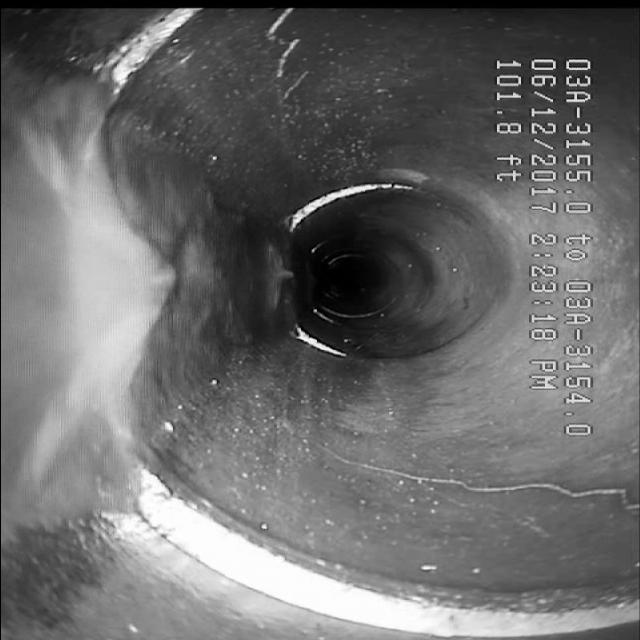Crack: (333, 453, 630, 529), (249, 14, 339, 113)
